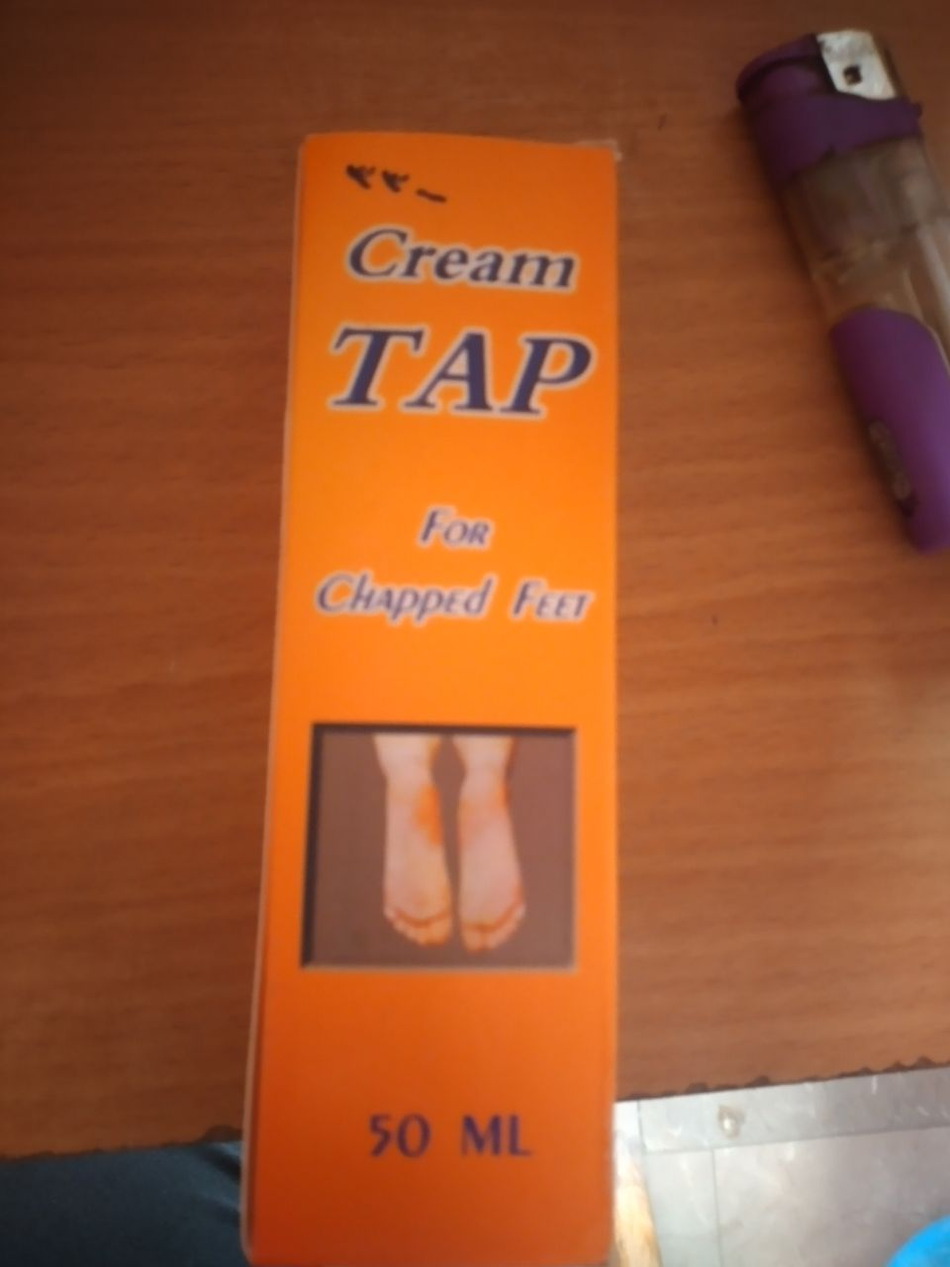Medicine: (241, 109, 633, 1267)
